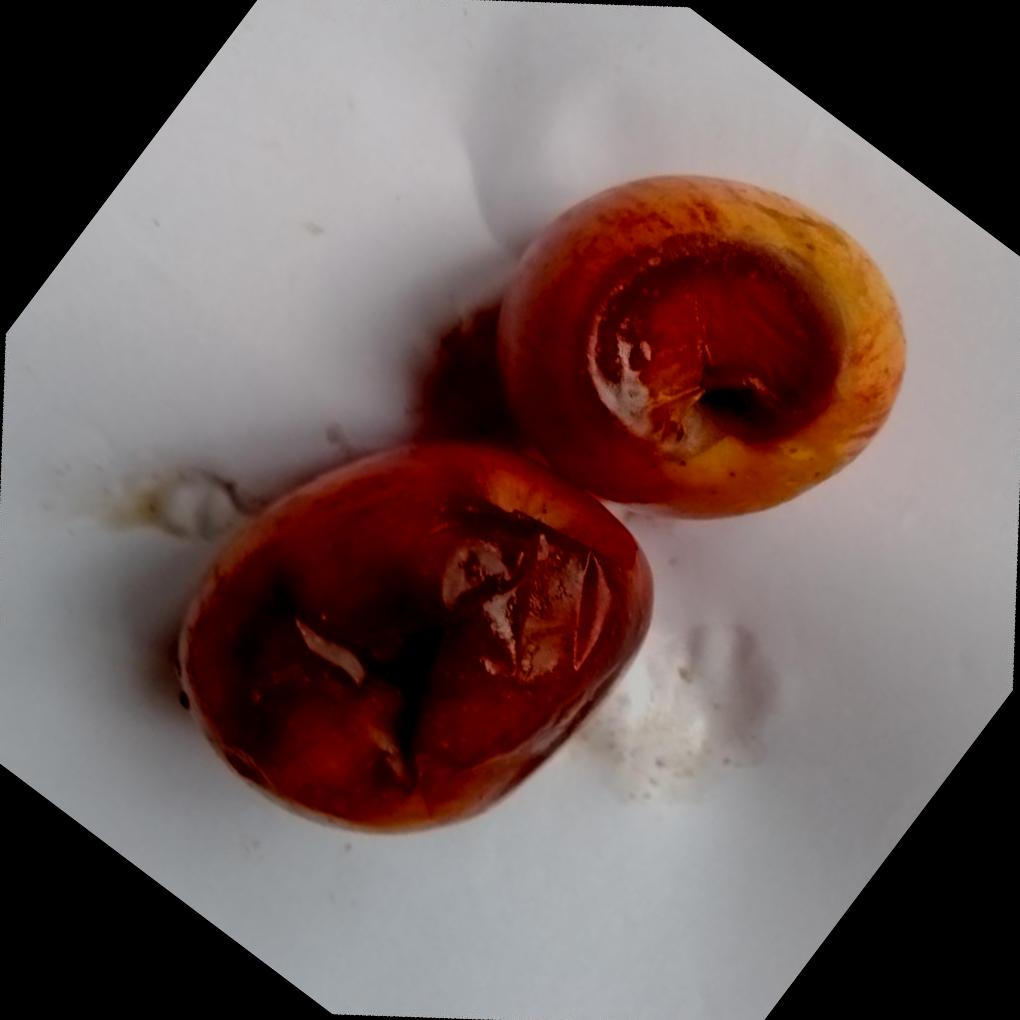FreshOrange: (178, 170, 909, 833)
